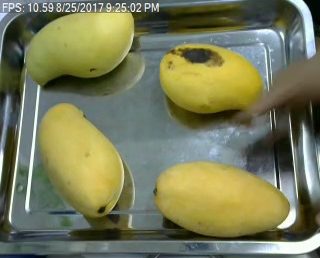Mango: (155, 159, 292, 239), (37, 99, 124, 222), (23, 4, 136, 85), (158, 43, 264, 116)
